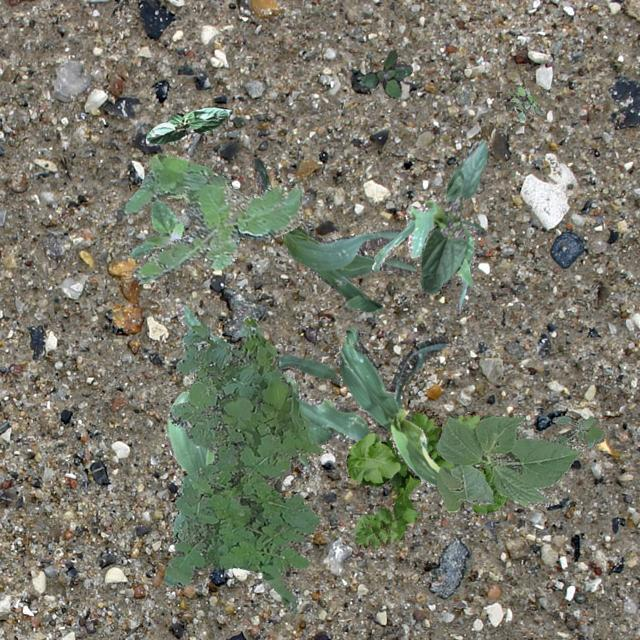crop: (164, 302, 370, 474), (252, 158, 416, 312), (338, 326, 446, 486), (434, 413, 584, 512), (370, 196, 484, 312), (420, 138, 488, 292), (146, 106, 230, 144)
weed: (162, 316, 322, 614), (116, 152, 302, 278), (346, 403, 506, 548), (128, 198, 184, 284), (358, 48, 412, 96), (550, 414, 604, 448), (506, 85, 542, 122), (165, 190, 188, 203)
